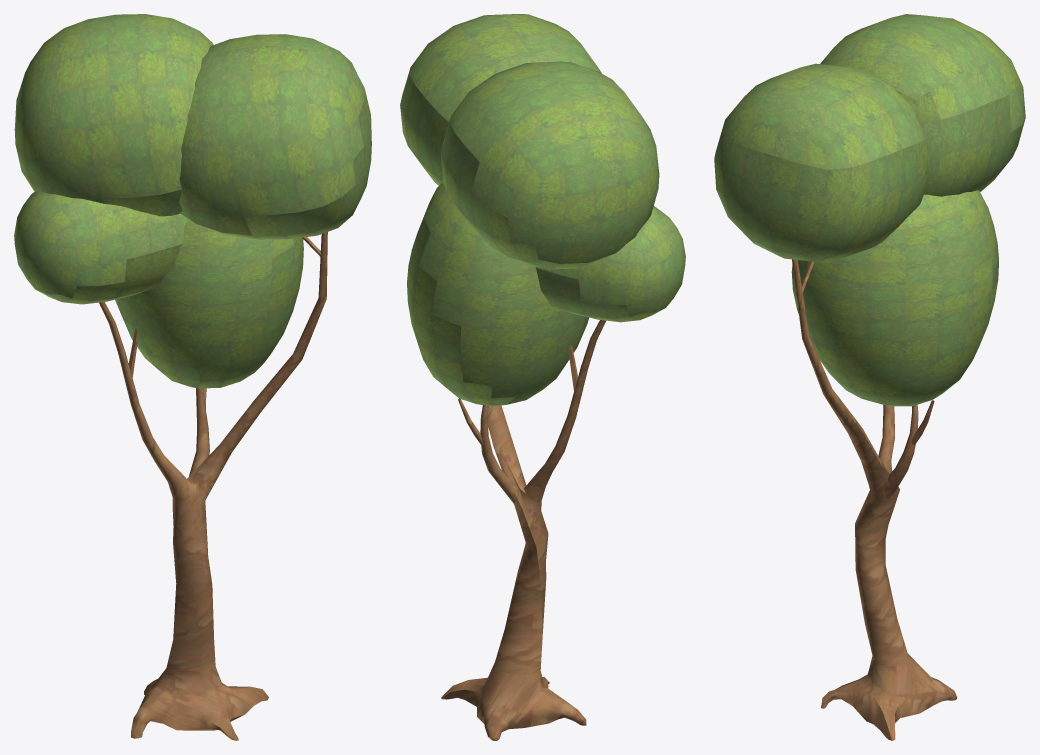
File: Tree_Big_Curved_03.fbx
The picture shows the model from 3 angles, left to right: view 1: azimuth 30°, elevation 25°; view 2: azimuth 150°, elevation 25°; view 3: azimuth 270°, elevation 25°; orthographic projection. The views are drawn at different scales.
Parts seen in each view (by area): view 1: Tree_Big_Curved_03; view 2: Tree_Big_Curved_03; view 3: Tree_Big_Curved_03.
Part boxes in pixels (x1=…): Tree_Big_Curved_03: x1=14, y1=14, x2=371, y2=740; Tree_Big_Curved_03: x1=400, y1=14, x2=685, y2=740; Tree_Big_Curved_03: x1=714, y1=14, x2=1025, y2=740.
Size of the model in its own units: 436 by 935 by 402.
